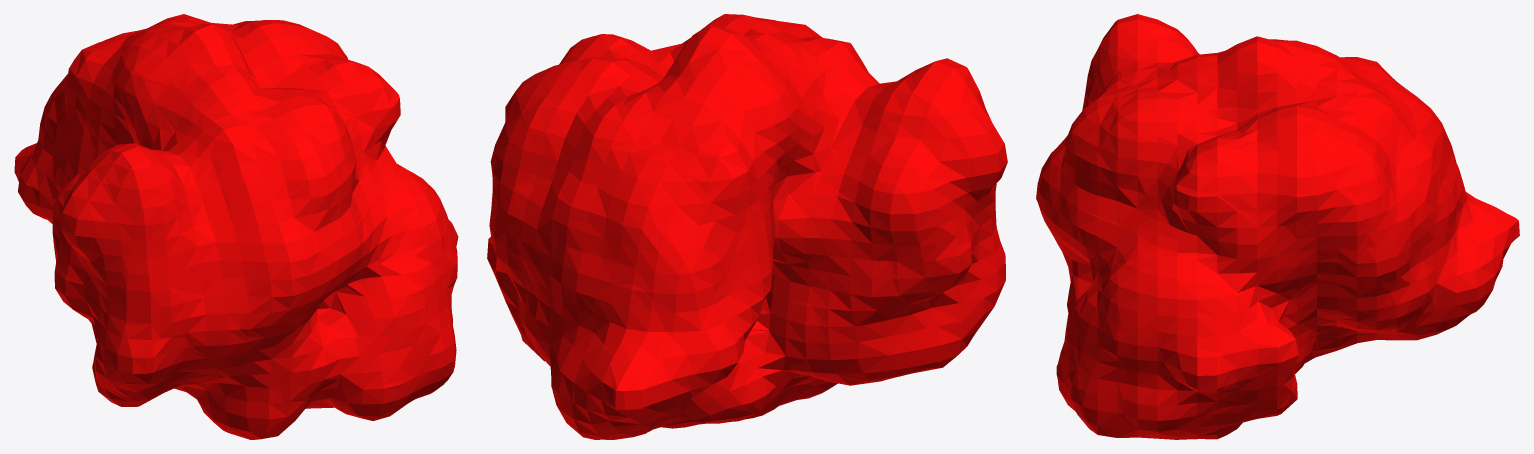
The model's file is melA_coarse.dae.
The picture shows the model from 3 angles, left to right: view 1: azimuth 30°, elevation 25°; view 2: azimuth 150°, elevation 25°; view 3: azimuth 270°, elevation 25°; orthographic projection. The views are drawn at different scales.
Visible parts, largest first — view 1: melA; view 2: melA; view 3: melA.
Part boxes in pixels (left/top/right/bottom): melA: left=14, top=14, right=458, bottom=439; melA: left=487, top=14, right=1007, bottom=439; melA: left=1036, top=14, right=1519, bottom=439.
Size of the model in its own units: 67.5 by 57.29 by 70.18.
